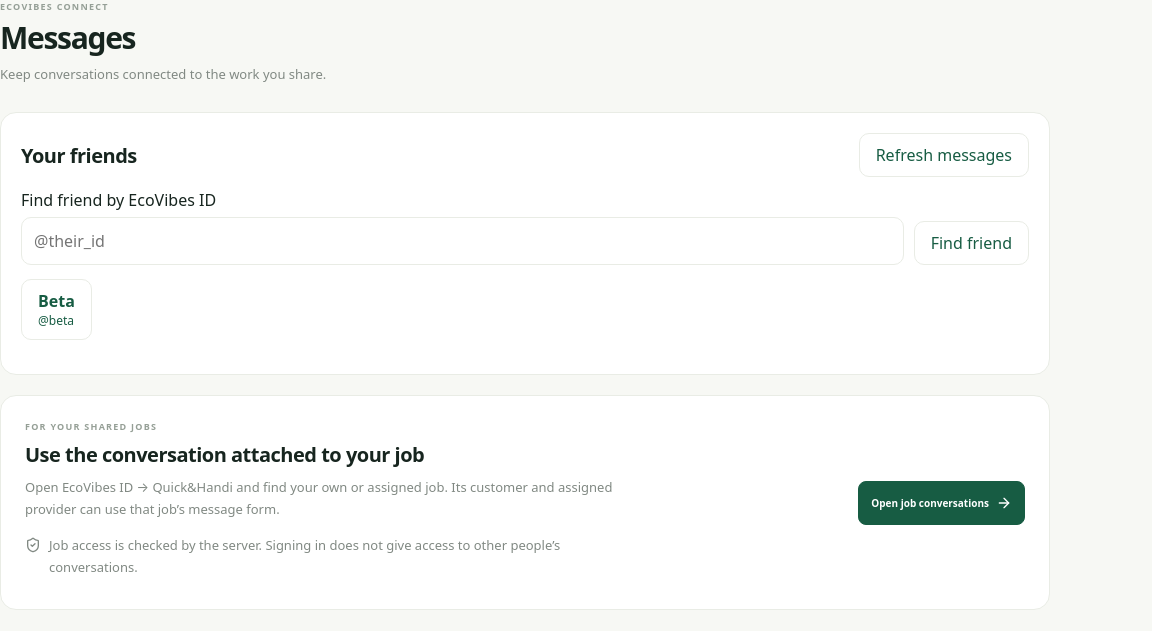
Test case: accepted-friend text conversations › clears cached text and disables sending when a read reports revocation
Click the button with aria-label "Message Beta" at coordinates (56, 310), box x1=21 y1=279 x2=92 y2=340
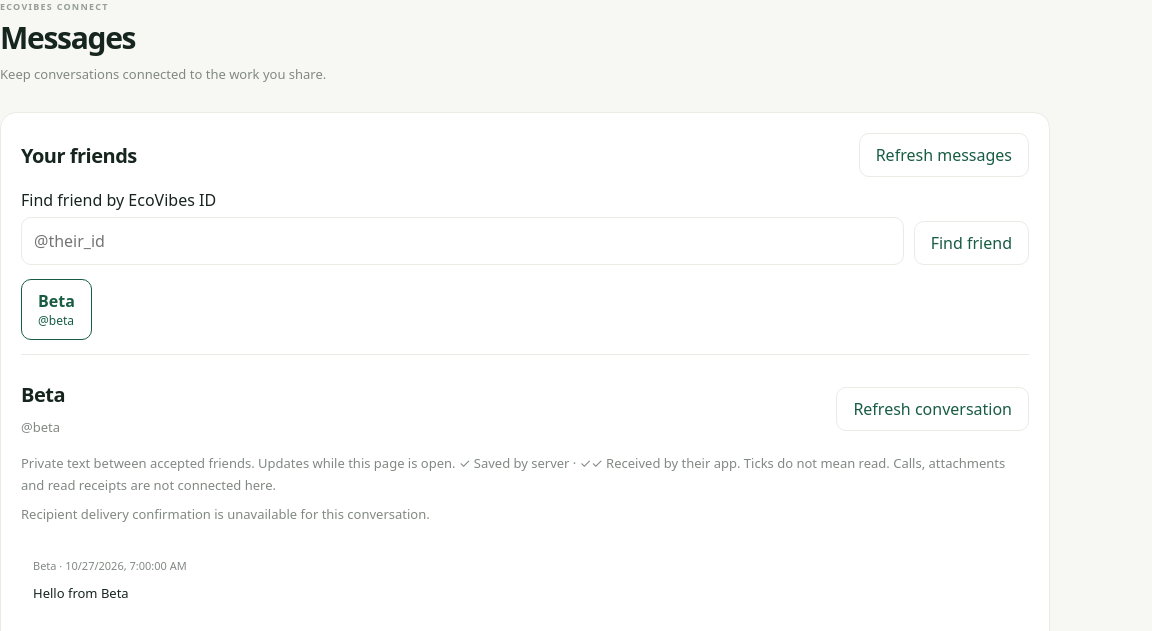
Result: the text "Hello from Beta" is shown at x1=33 y1=584 x2=129 y2=602
Click the button "Refresh conversation" at coordinates (933, 409), box x1=836 y1=387 x2=1029 y2=431
(page scrolled)
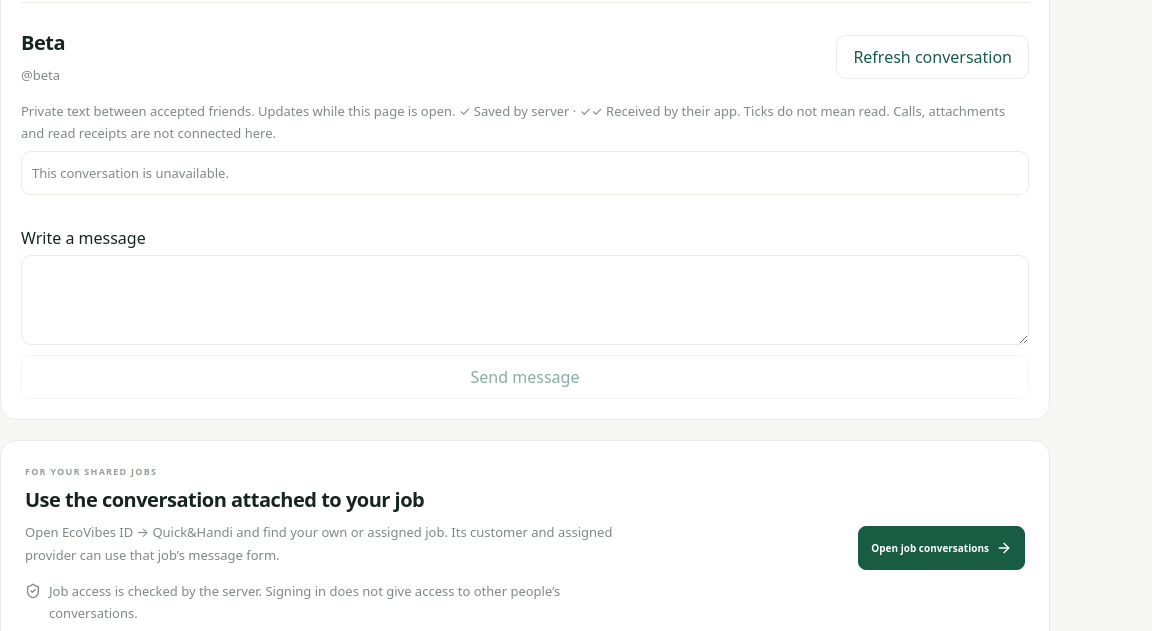
Result: the button "Send message" is disabled at x1=21 y1=356 x2=1029 y2=400
Result: the text "This conversation is unavailable." is shown at x1=21 y1=151 x2=1029 y2=196
Result: the text "Hello from Beta" is gone
